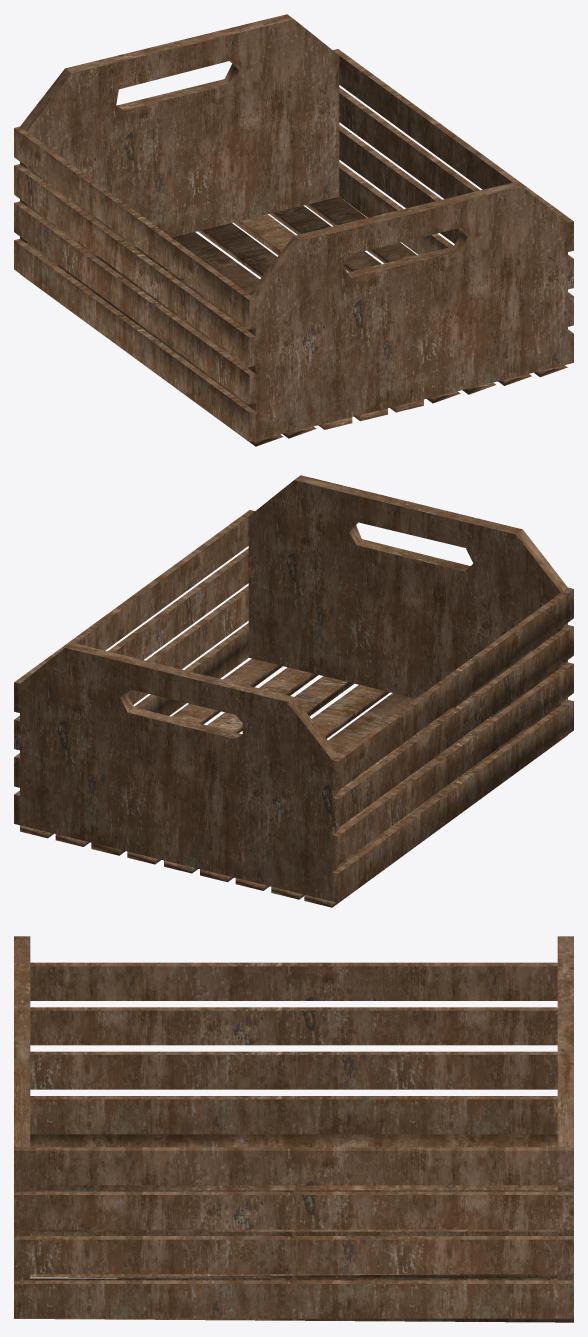
3 views of the same model, one above another, from view 1: azimuth 30°, elevation 25°; view 2: azimuth 150°, elevation 25°; view 3: azimuth 270°, elevation 25° (orthographic). The views are drawn at different scales.
Visible parts, largest first — view 1: Box; view 2: Box; view 3: Box.
Part boxes in pixels (left/top/right/bottom): Box: left=14, top=14, right=573, bottom=446; Box: left=14, top=475, right=573, bottom=907; Box: left=14, top=936, right=573, bottom=1322.
Size of the model in its own units: 1.15 by 0.6621 by 1.45.
Materials: 1 (1 with a texture image).
